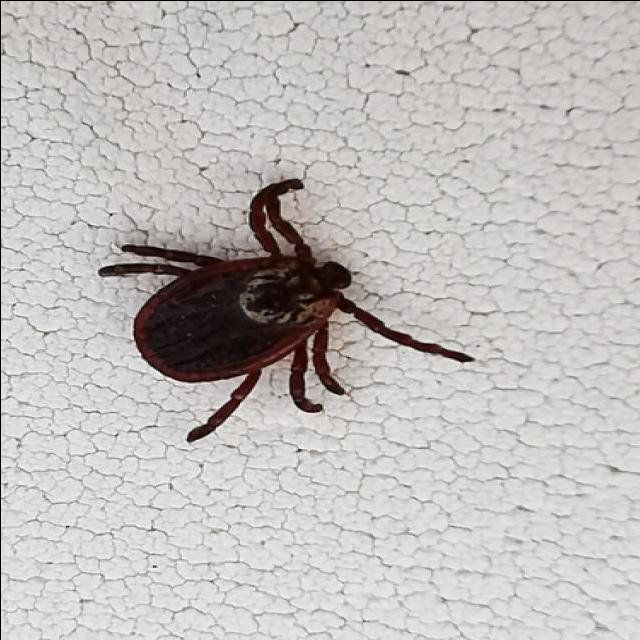Dermacentor Reticulatus-F: (97, 177, 473, 440)
